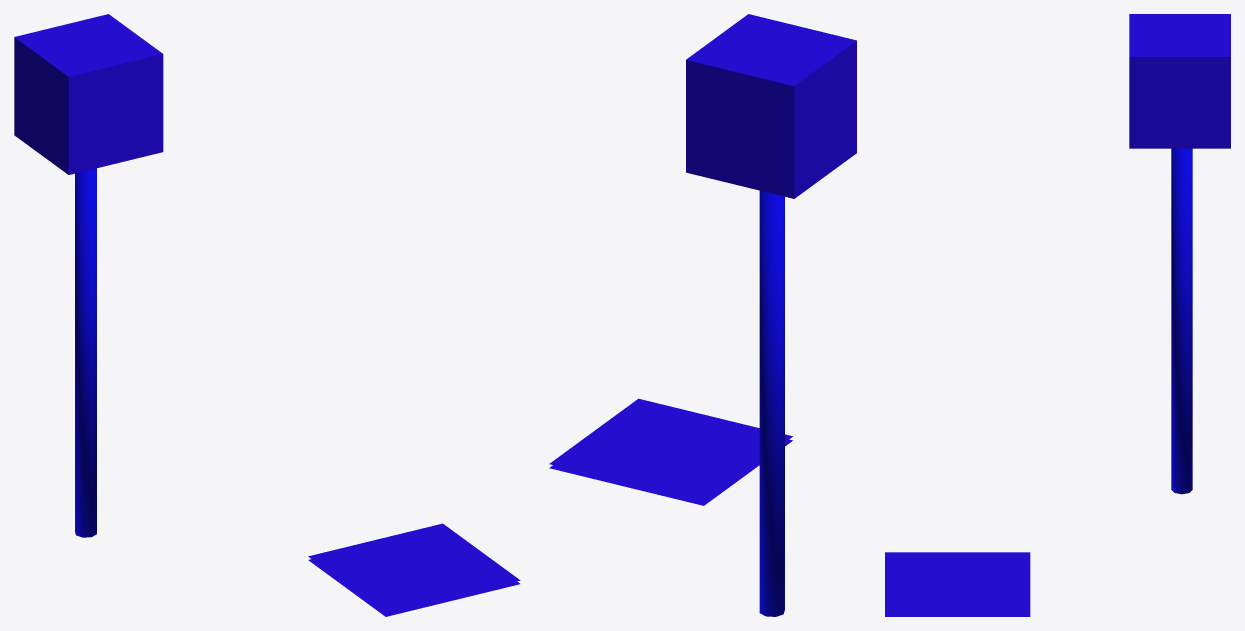
Rendered from ScaleGizmo.fbx.
3 views of the same model, side by side, from view 1: azimuth 30°, elevation 25°; view 2: azimuth 150°, elevation 25°; view 3: azimuth 270°, elevation 25° (orthographic). The views are drawn at different scales.
Visible parts, largest first — view 1: Ground plane, Axis scale, Cone; view 2: Ground plane, Axis scale, Cone; view 3: Ground plane, Axis scale, Cone.
Part boxes in pixels (left/top/right/bottom): Ground plane: left=14, top=14, right=163, bottom=174; Axis scale: left=308, top=523, right=520, bottom=616; Cone: left=75, top=168, right=96, bottom=537; Ground plane: left=686, top=14, right=856, bottom=198; Axis scale: left=549, top=398, right=792, bottom=505; Cone: left=759, top=190, right=784, bottom=616; Ground plane: left=1129, top=14, right=1230, bottom=148; Axis scale: left=885, top=552, right=1030, bottom=616; Cone: left=1171, top=148, right=1192, bottom=494.
Size of the model in its own units: 68.44 by 99.72 by 68.44.
